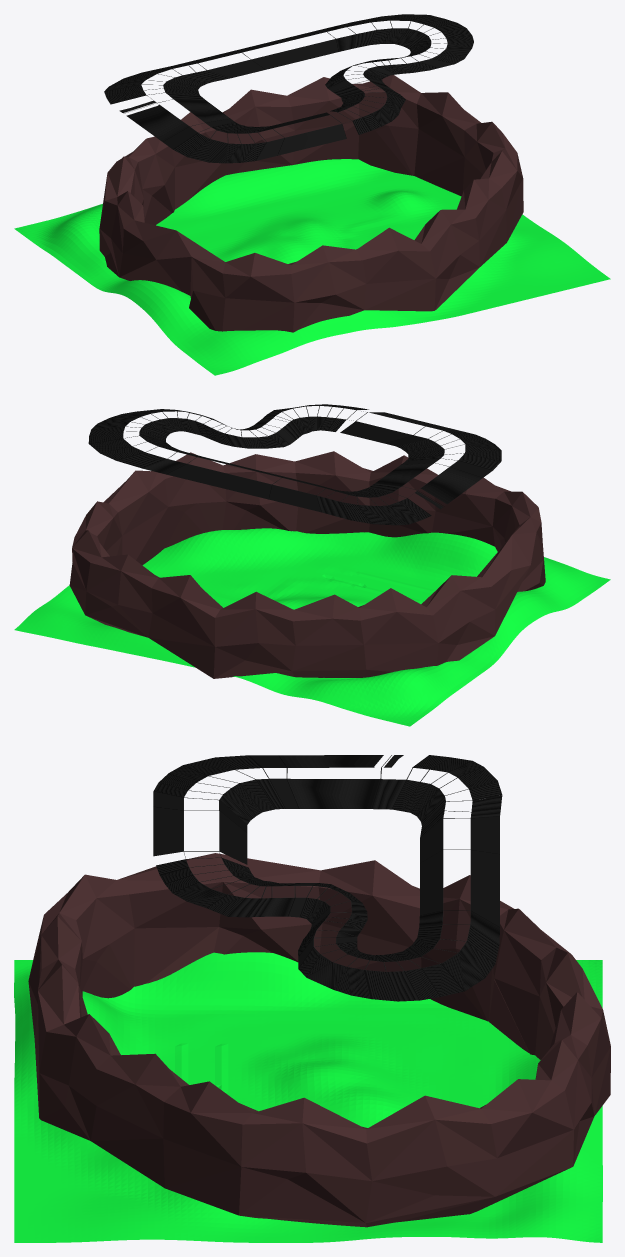
File: track.fbx
The picture shows the model from 3 angles, top to bottom: view 1: azimuth 30°, elevation 25°; view 2: azimuth 150°, elevation 25°; view 3: azimuth 270°, elevation 25°; orthographic projection. The views are drawn at different scales.
Visible parts, largest first — view 1: Cube.001, Plane, Cube; view 2: Cube.001, Plane, Cube; view 3: Cube.001, Plane, Cube.
Part boxes in pixels (box(x1,y1,x2,y2)): Cube.001: box(99, 75, 523, 332); Plane: box(14, 159, 610, 375); Cube: box(104, 14, 473, 163); Cube.001: box(69, 451, 545, 678); Plane: box(14, 528, 610, 726); Cube: box(88, 404, 501, 525); Cube.001: box(28, 853, 610, 1227); Plane: box(14, 952, 602, 1242); Cube: box(153, 755, 502, 1001).
Size of the model in its own units: 63787 by 25998 by 56825.
